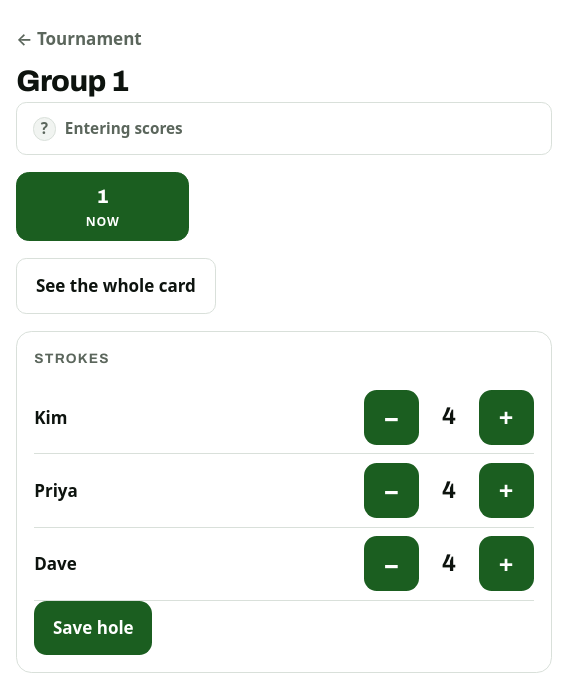
score entry › offers only the tied players when the strokes tie
Click the button "Save hole" at (93, 628), box [34, 601, 152, 655]
(page scrolled)
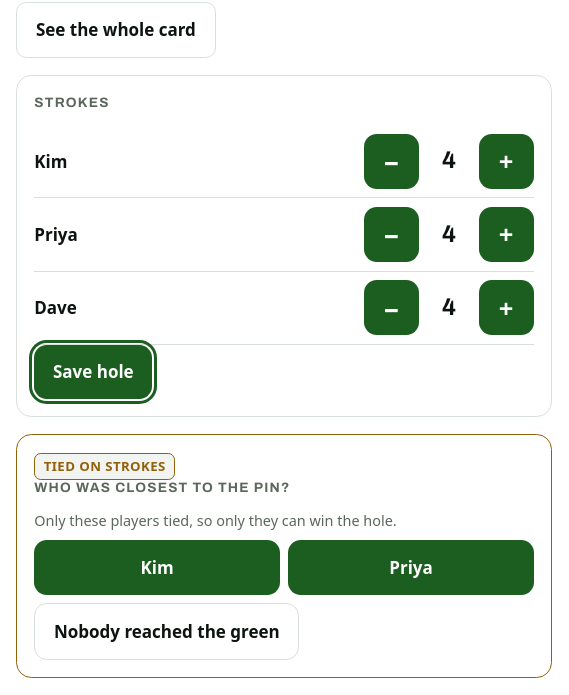
Now the button "Kim" is shown, box [34, 540, 280, 595]
Now the button "Priya" is shown, box [288, 540, 534, 595]
